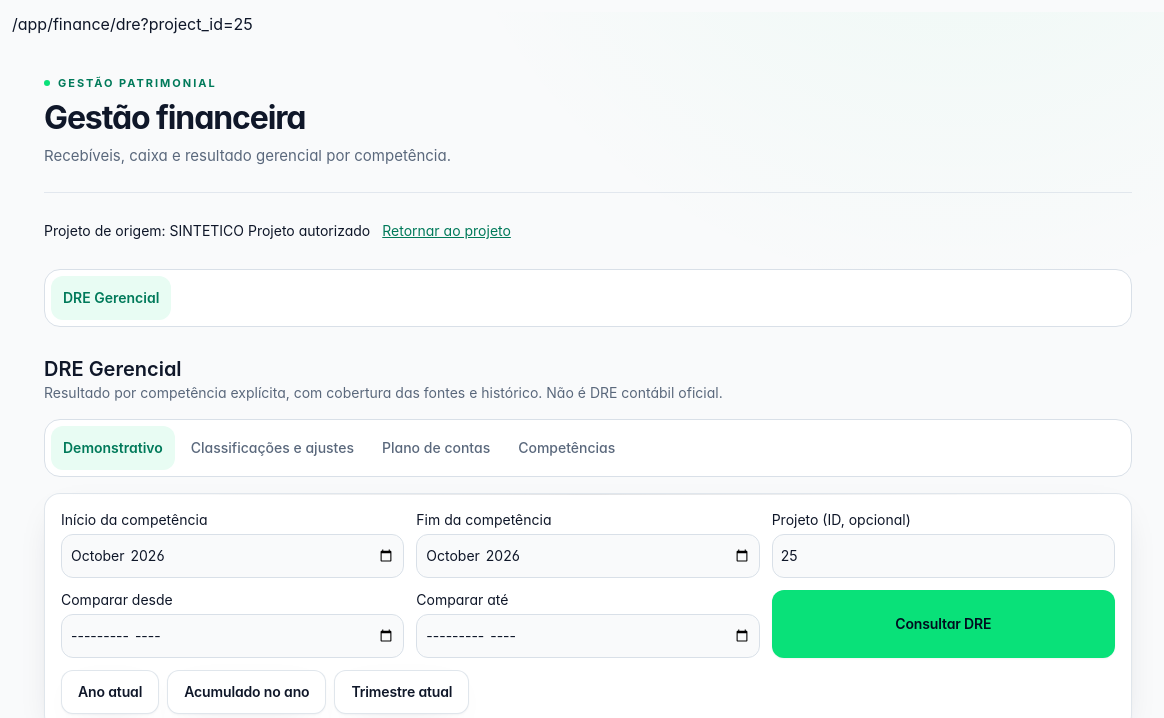
Scenario: DRE nested navigation and explicit classification › allows clearing a project filter instead of retaining stale scope
Step 1. Clear the number field labelled "Projeto (ID, opcional)" → [943, 556], box [772,534,1115,578]
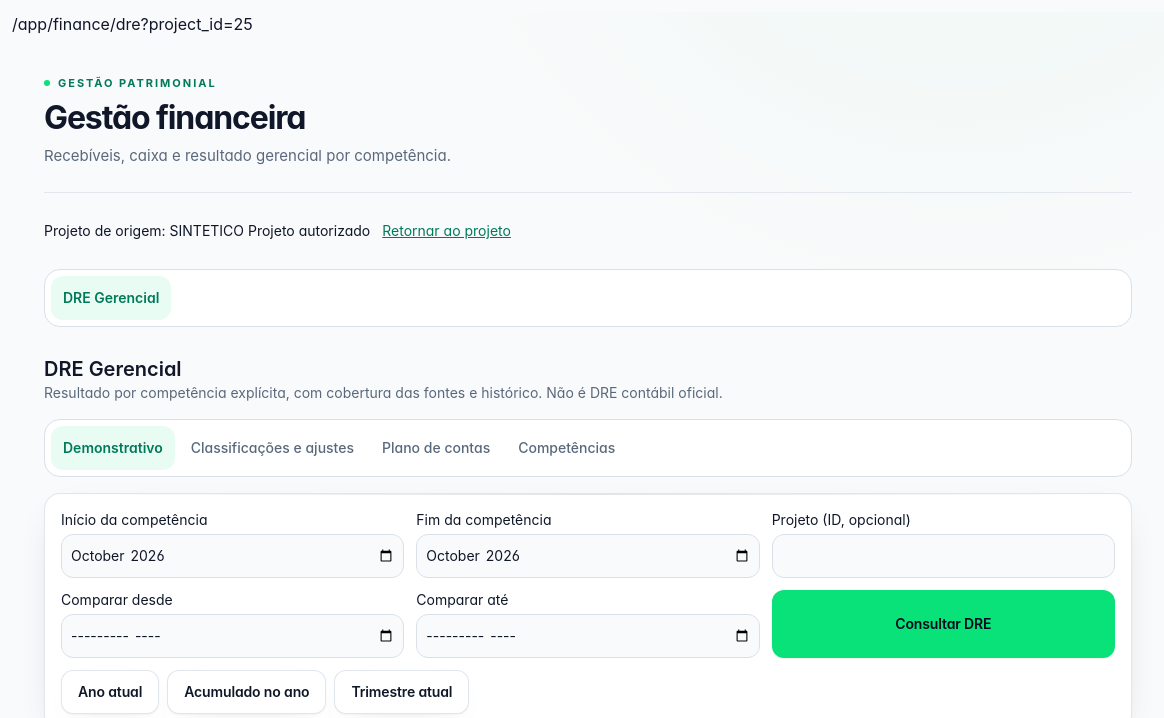
Step 2. Click the button "Consultar DRE" → [943, 624], box [772,590,1115,658]
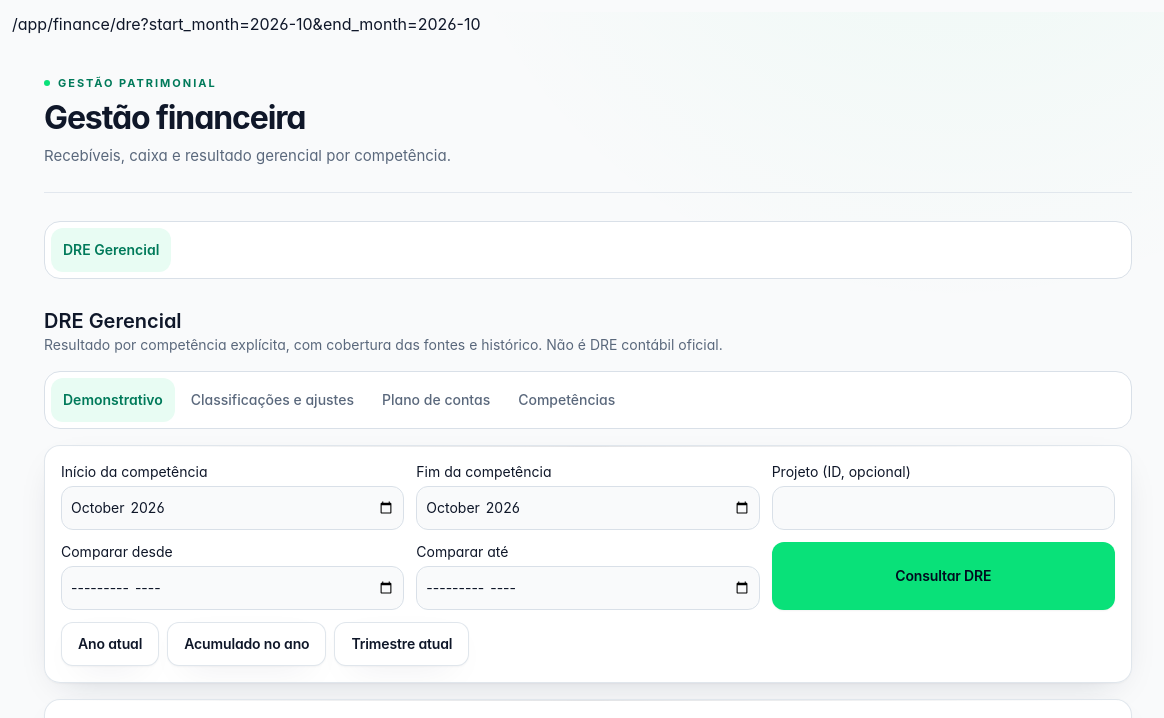
Expected: the text with test id "location" no longer shows "project_id", [12,14,480,34]
